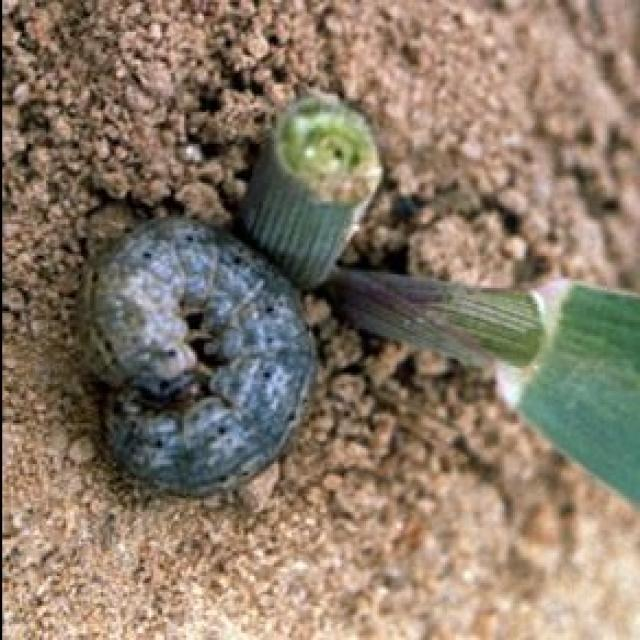black cutworm: (93, 220, 308, 527)
